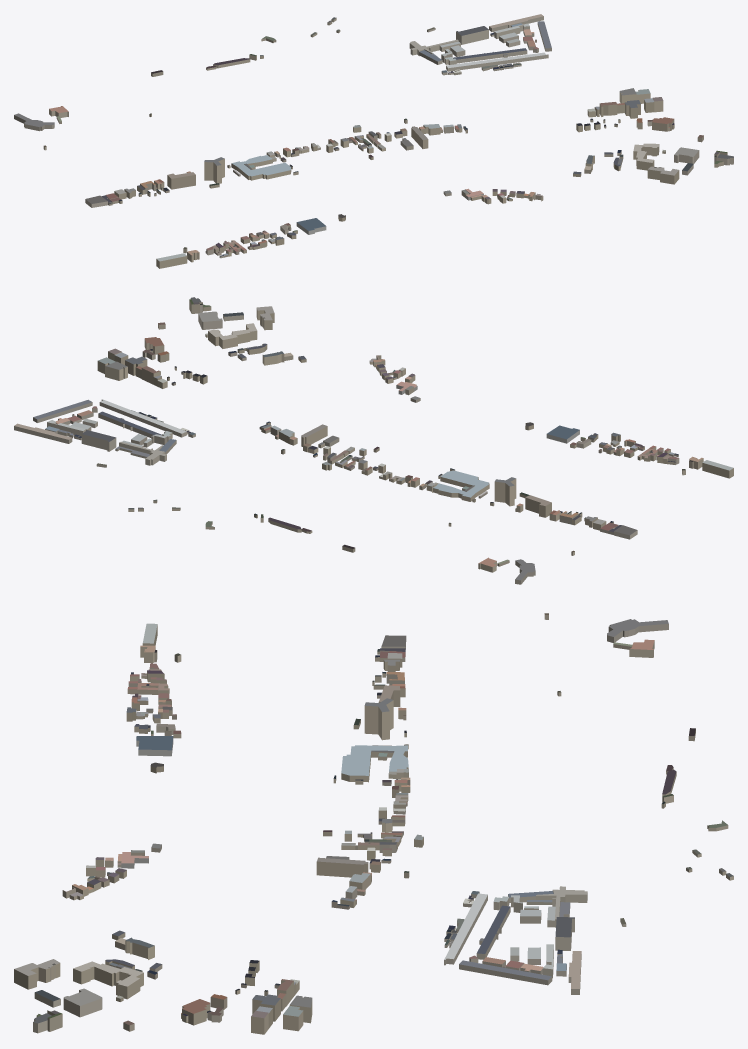
The picture shows the model from 3 angles, top to bottom: view 1: azimuth 30°, elevation 25°; view 2: azimuth 150°, elevation 25°; view 3: azimuth 270°, elevation 25°; orthographic projection. The views are drawn at different scales.
Parts seen in each view (by area): view 1: tuile; view 2: tuile; view 3: tuile.
Part boxes in pixels (bbox=[...]): tuile: bbox=[14, 14, 733, 268]; tuile: bbox=[14, 297, 733, 584]; tuile: bbox=[14, 613, 733, 1034].
Size of the model in its own units: 1021 by 52.33 by 774.
